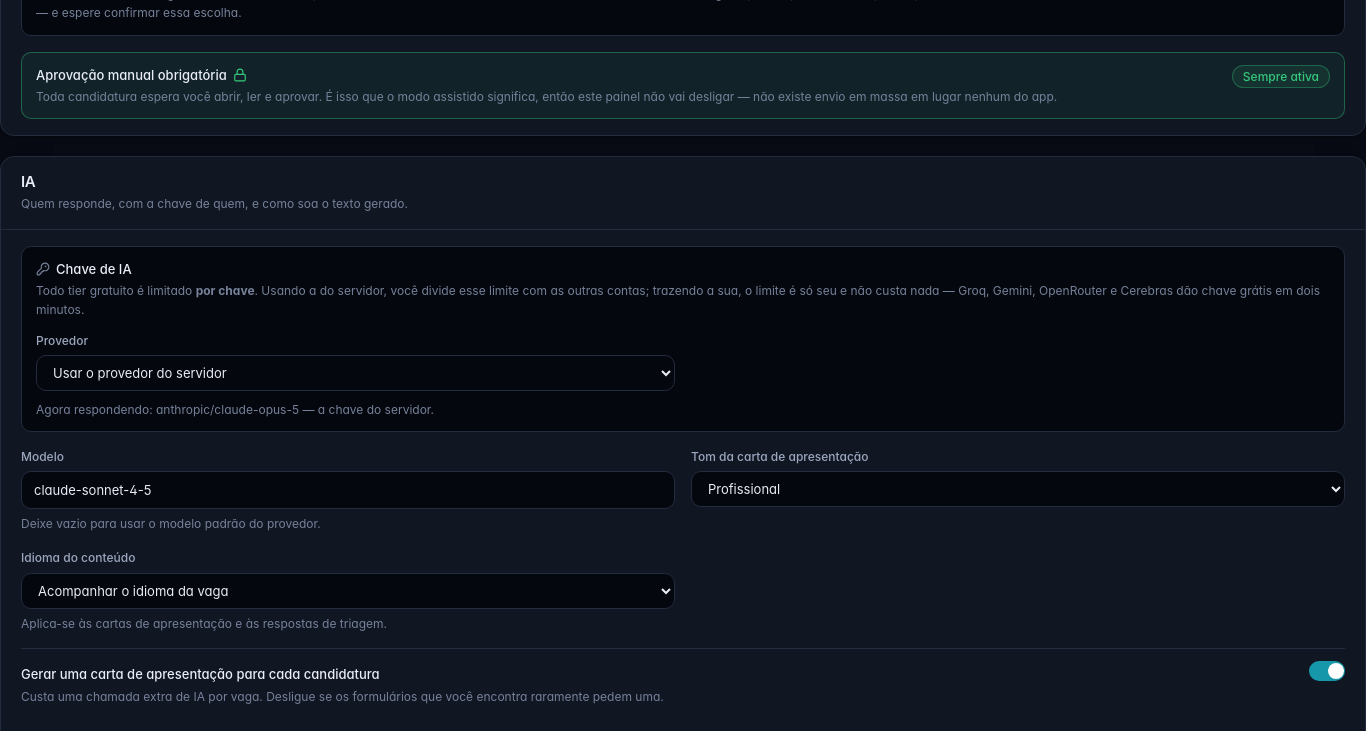
the AI key an account brings › refuses to save a provider with no key, without a round trip
The width and height of the screenshot is (1366, 731).
(page scrolled)
Select "Groq" in the dropdown labelled "Provedor": (356, 373) x1=36 y1=355 x2=675 y2=391
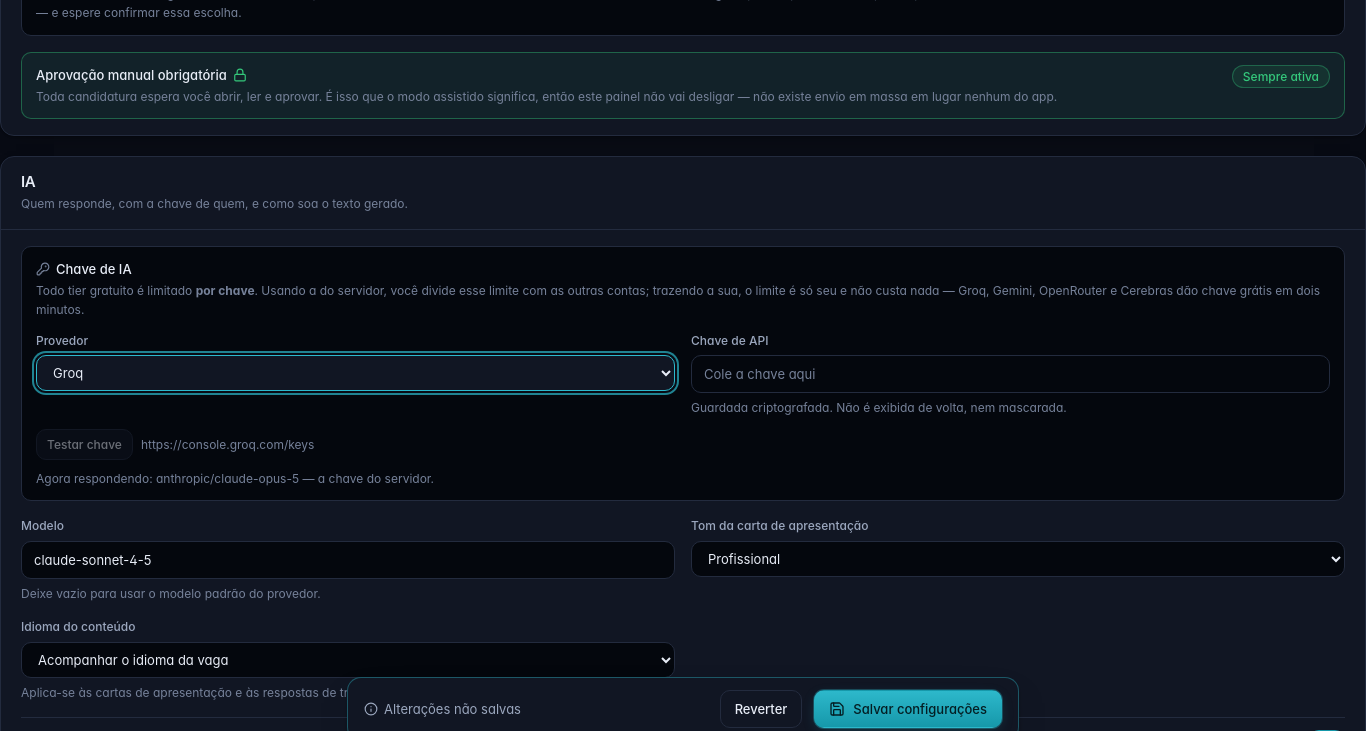
Click the button "Salvar configurações": (908, 709) x1=814 y1=690 x2=1002 y2=728
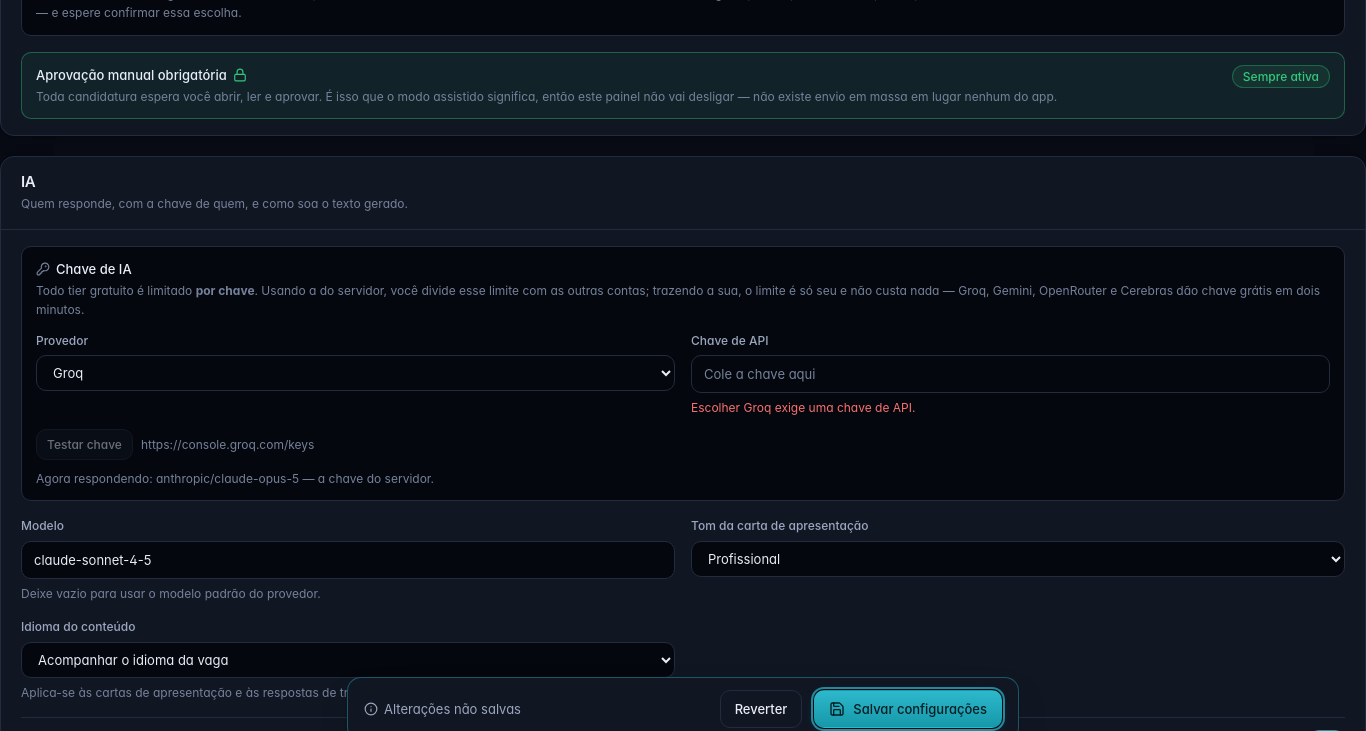
Expected: the text "Escolher Groq exige uma chave de API." is shown, x1=691 y1=400 x2=916 y2=415
